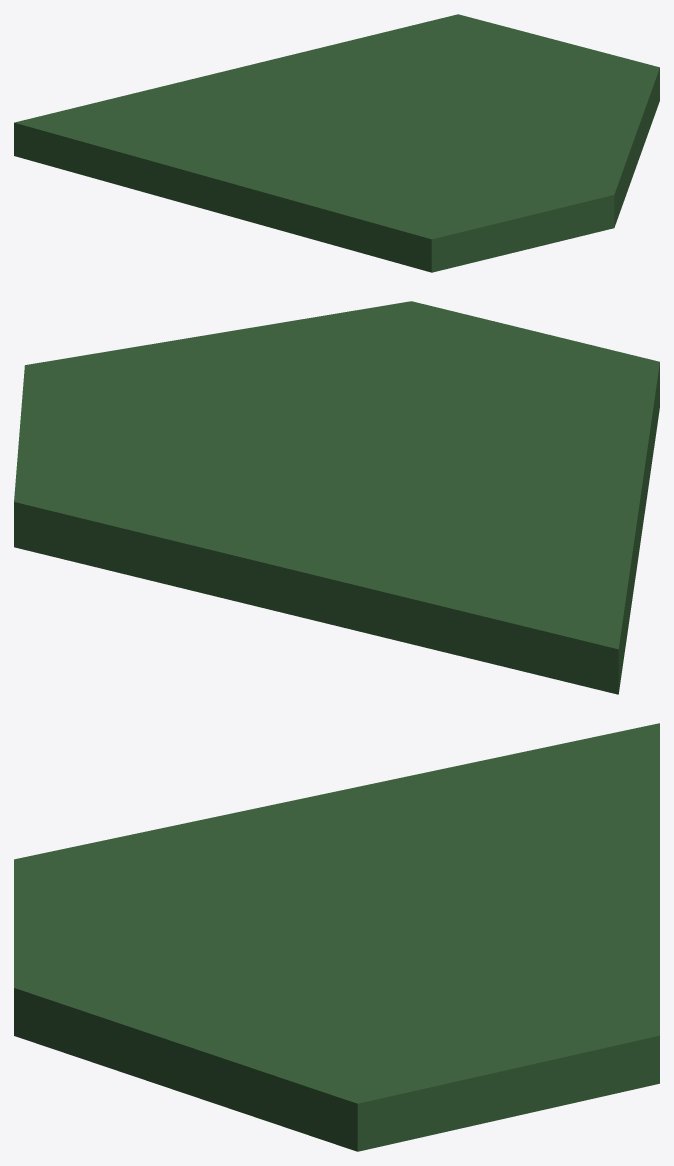
The model's file is x_proval_00_108_1_rmstrd.fbx.
3 views of the same model, one above another, from view 1: azimuth 30°, elevation 25°; view 2: azimuth 150°, elevation 25°; view 3: azimuth 270°, elevation 25° (orthographic). The views are drawn at different scales.
Visible parts, largest first — view 1: x_proval_00_108_1_rmstrd1; view 2: x_proval_00_108_1_rmstrd1; view 3: x_proval_00_108_1_rmstrd1.
Boxes of the visible parts, bbox=[...] form: x_proval_00_108_1_rmstrd1: bbox=[14, 14, 659, 272]; x_proval_00_108_1_rmstrd1: bbox=[14, 301, 659, 694]; x_proval_00_108_1_rmstrd1: bbox=[14, 723, 659, 1151].
Size of the model in its own units: 3.39 by 0.2 by 2.43.
